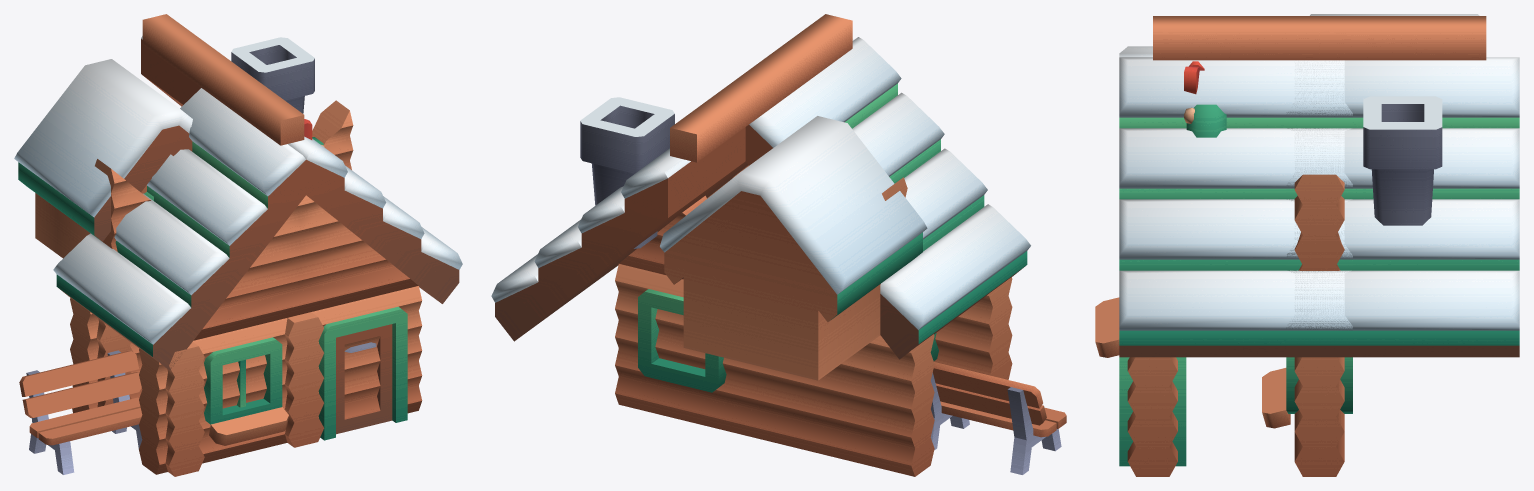
File: cozy_cottage.glb
3 renders of one model, left to right at view 1: azimuth 30°, elevation 25°; view 2: azimuth 150°, elevation 25°; view 3: azimuth 270°, elevation 25°, orthographic. The views are drawn at different scales.
Parts seen in each view (by area): view 1: cabin-roof-snow.001, cabin-roof-snow-dormer, cabin-roof-snow, bench, cabin-corner-logs, cabin-wall-roof, cabin-door-rotate, cabin-window-b, cabin-wall-roof.001, cabin-roof-snow-chimney, cabin-wall.001, cabin-corner-logs.001 (+7 smaller); view 2: cabin-roof-snow-dormer, cabin-roof-snow.001, cabin-roof-snow-chimney, cabin-wall.004, cabin-wall, bench, cabin-corner-logs.003, cabin-window-a, cabin-roof-top.001, cabin-roof-top, cabin-corner-logs, cabin-corner-logs.002 (+2 smaller); view 3: cabin-roof-snow, cabin-roof-snow-chimney, cabin-door-rotate, cabin-roof-top.001, cabin-roof-top, cabin-wall.004, cabin-wall-roof.003, cabin-window-a, wreath-decorated, cabin-window-b.
Part boxes in pixels (box(x1,y1,x2,y2)): cabin-roof-snow.001: box(53, 88, 306, 370); cabin-roof-snow-dormer: box(14, 59, 192, 258); cabin-roof-snow: box(288, 136, 462, 303); bench: box(19, 350, 142, 474); cabin-corner-logs: box(139, 342, 204, 476); cabin-wall-roof: box(299, 195, 418, 314); cabin-door-rotate: box(312, 286, 422, 440); cabin-window-b: box(199, 320, 288, 445); cabin-wall-roof.001: box(194, 201, 302, 340); cabin-roof-snow-chimney: box(141, 36, 314, 113); cabin-wall.001: box(193, 318, 287, 463); cabin-corner-logs.001: box(276, 312, 323, 447); cabin-roof-snow-dormer: box(660, 116, 927, 380); cabin-roof-snow.001: box(745, 37, 1030, 359); cabin-roof-snow-chimney: box(491, 97, 745, 341); cabin-wall.004: box(615, 264, 753, 437); cabin-wall: box(751, 335, 888, 470); bench: box(930, 362, 1066, 474); cabin-corner-logs.003: box(884, 334, 934, 476); cabin-window-a: box(615, 264, 752, 397); cabin-roof-top.001: box(670, 71, 774, 162); cabin-roof-top: box(748, 14, 852, 105); cabin-corner-logs: box(962, 277, 1012, 379); cabin-corner-logs.002: box(749, 364, 780, 443); cabin-roof-snow: box(1119, 57, 1352, 357); cabin-roof-snow-chimney: box(1286, 57, 1519, 357); cabin-door-rotate: box(1119, 357, 1186, 476); cabin-roof-top.001: box(1319, 16, 1486, 60); cabin-roof-top: box(1153, 16, 1319, 60); cabin-wall.004: box(1294, 357, 1344, 476); cabin-wall-roof.003: box(1294, 174, 1344, 270); cabin-window-a: box(1262, 357, 1352, 429); wreath-decorated: box(1184, 61, 1226, 137); cabin-window-b: box(1095, 297, 1119, 357).
Bounding box in the file's own units: 3.19 × 2.54 × 2.54.
26 materials, 26 textured.
